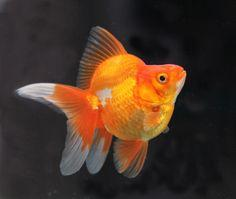goldfish: (23, 31, 215, 179)
